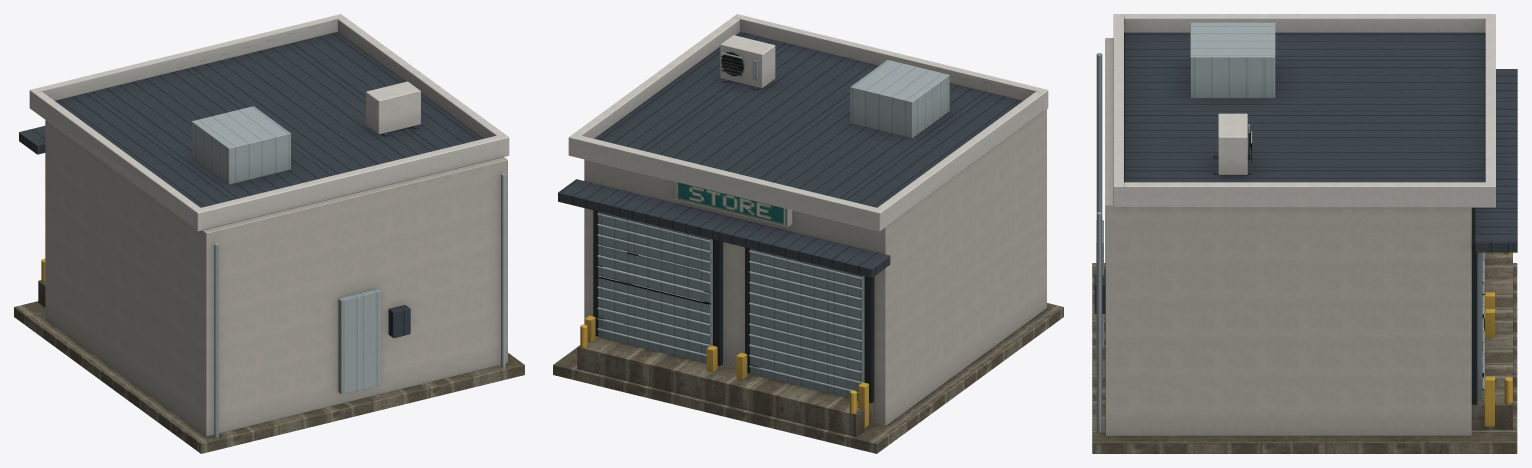
Rendered from factory_002.obj.
3 views of the same model, side by side, from view 1: azimuth 30°, elevation 25°; view 2: azimuth 150°, elevation 25°; view 3: azimuth 270°, elevation 25° (orthographic). The views are drawn at different scales.
Parts seen in each view (by area): view 1: factory_002; view 2: factory_002; view 3: factory_002.
Part boxes in pixels (x1,y1,x2,y2): factory_002: [14, 14, 524, 453]; factory_002: [553, 14, 1063, 453]; factory_002: [1092, 14, 1517, 453].
Size of the model in its own units: 6.5 by 4.92 by 6.51.
Materials: 1 (1 with a texture image).
